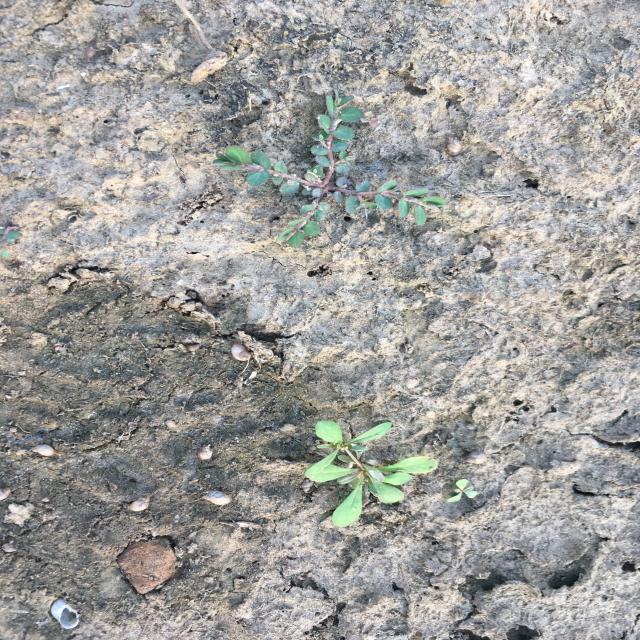Carpetweed: (300, 420, 440, 530)
SpottedSpurge: (210, 87, 450, 250)
